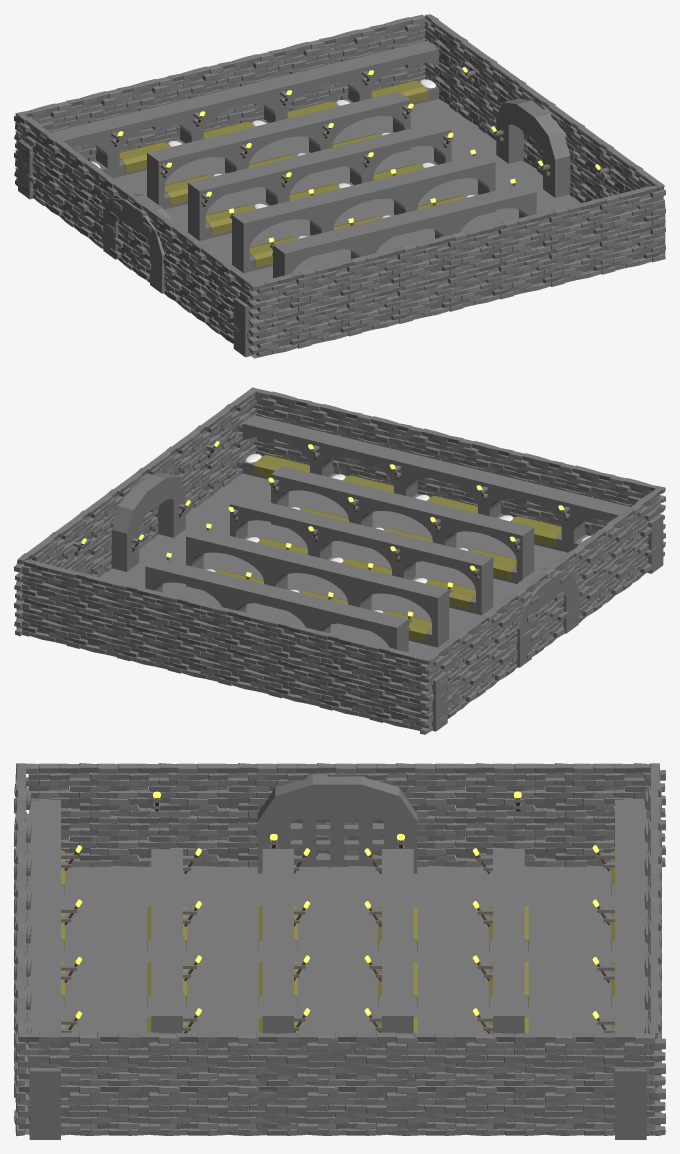
The model's file is room 2.fbx.
3 renders of one model, top to bottom at view 1: azimuth 30°, elevation 25°; view 2: azimuth 150°, elevation 25°; view 3: azimuth 270°, elevation 25°, orthographic. The views are drawn at different scales.
Parts seen in each view (by area): view 1: Plane; view 2: Plane; view 3: Plane.
Part boxes in pixels (x1,y1,x2,y2): Plane: (14,14,665,358); Plane: (14,387,665,734); Plane: (14,763,665,1139).
Size of the model in its own units: 3086 by 519 by 3054.
